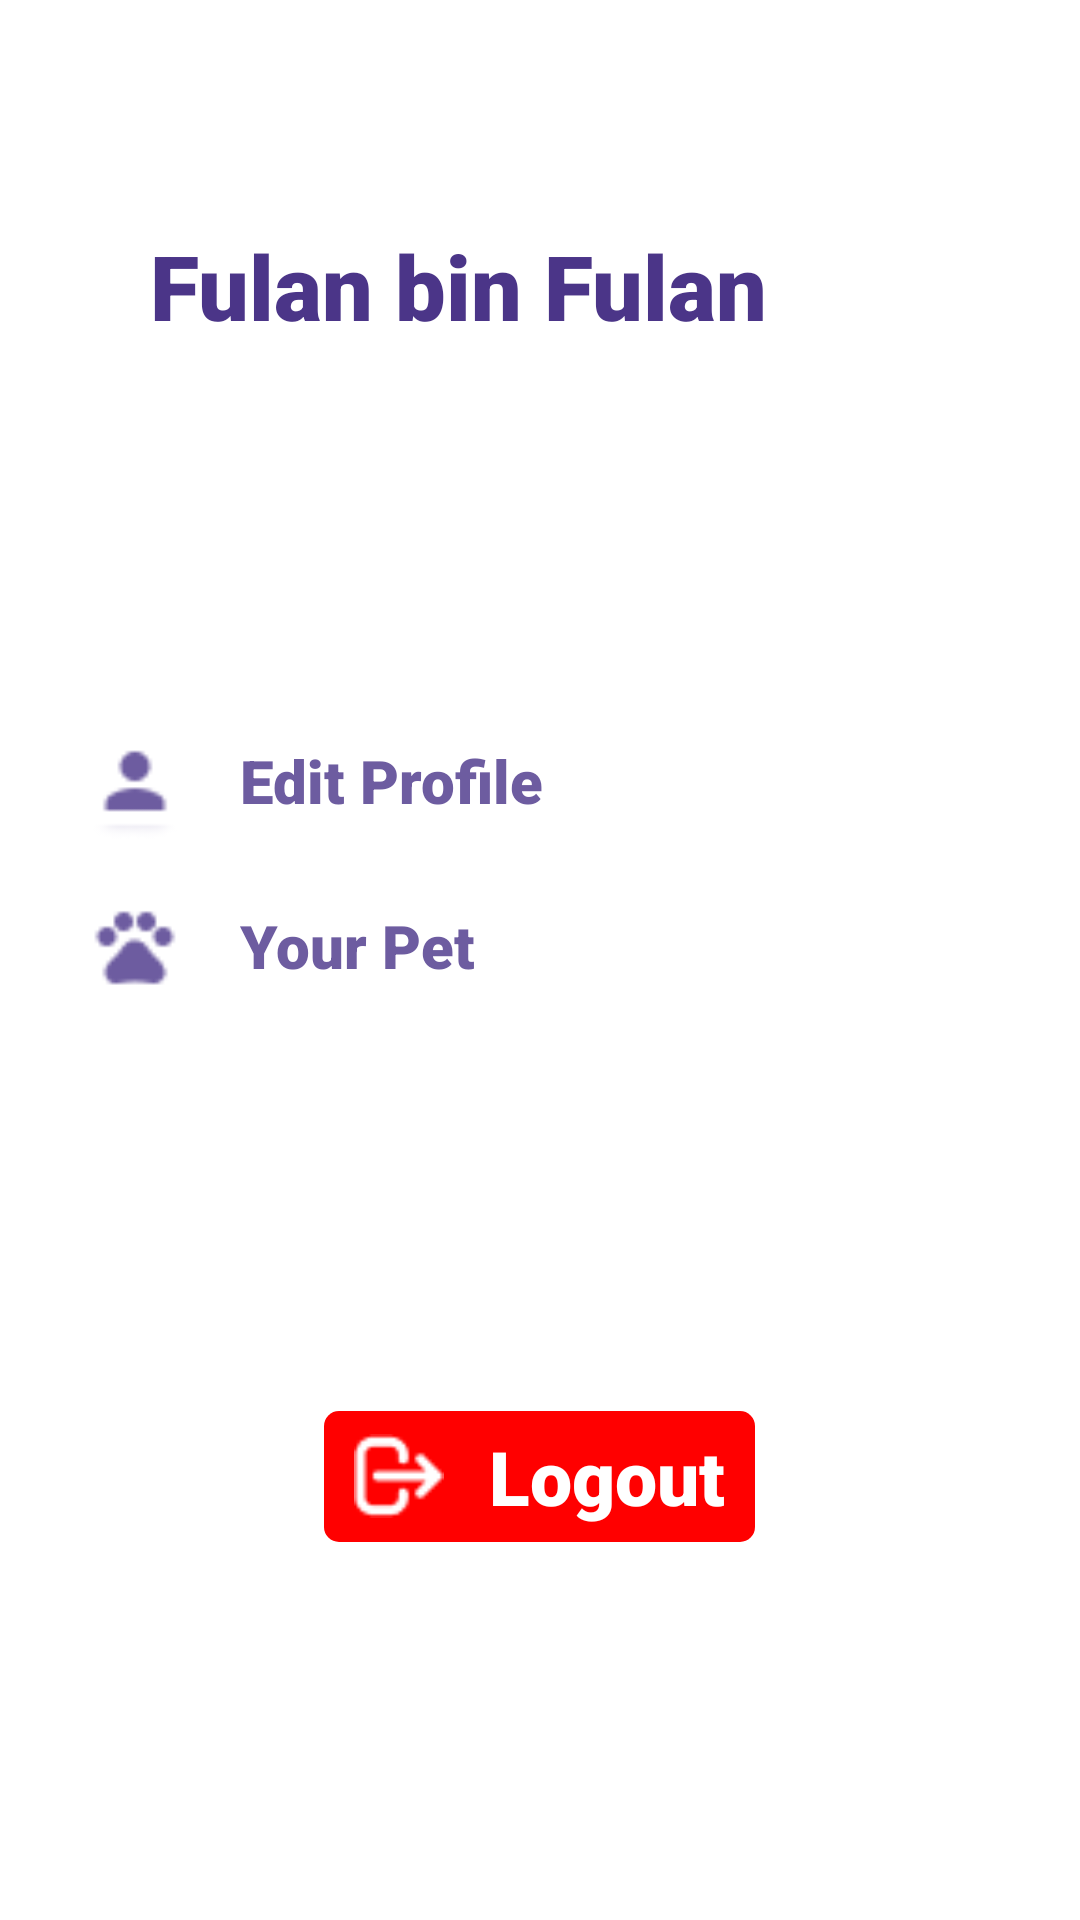

Icons on this 1080*1920 Android screen, each with its box as region(x1, y1, x2, y2):
petss: region(95, 911, 175, 985)
